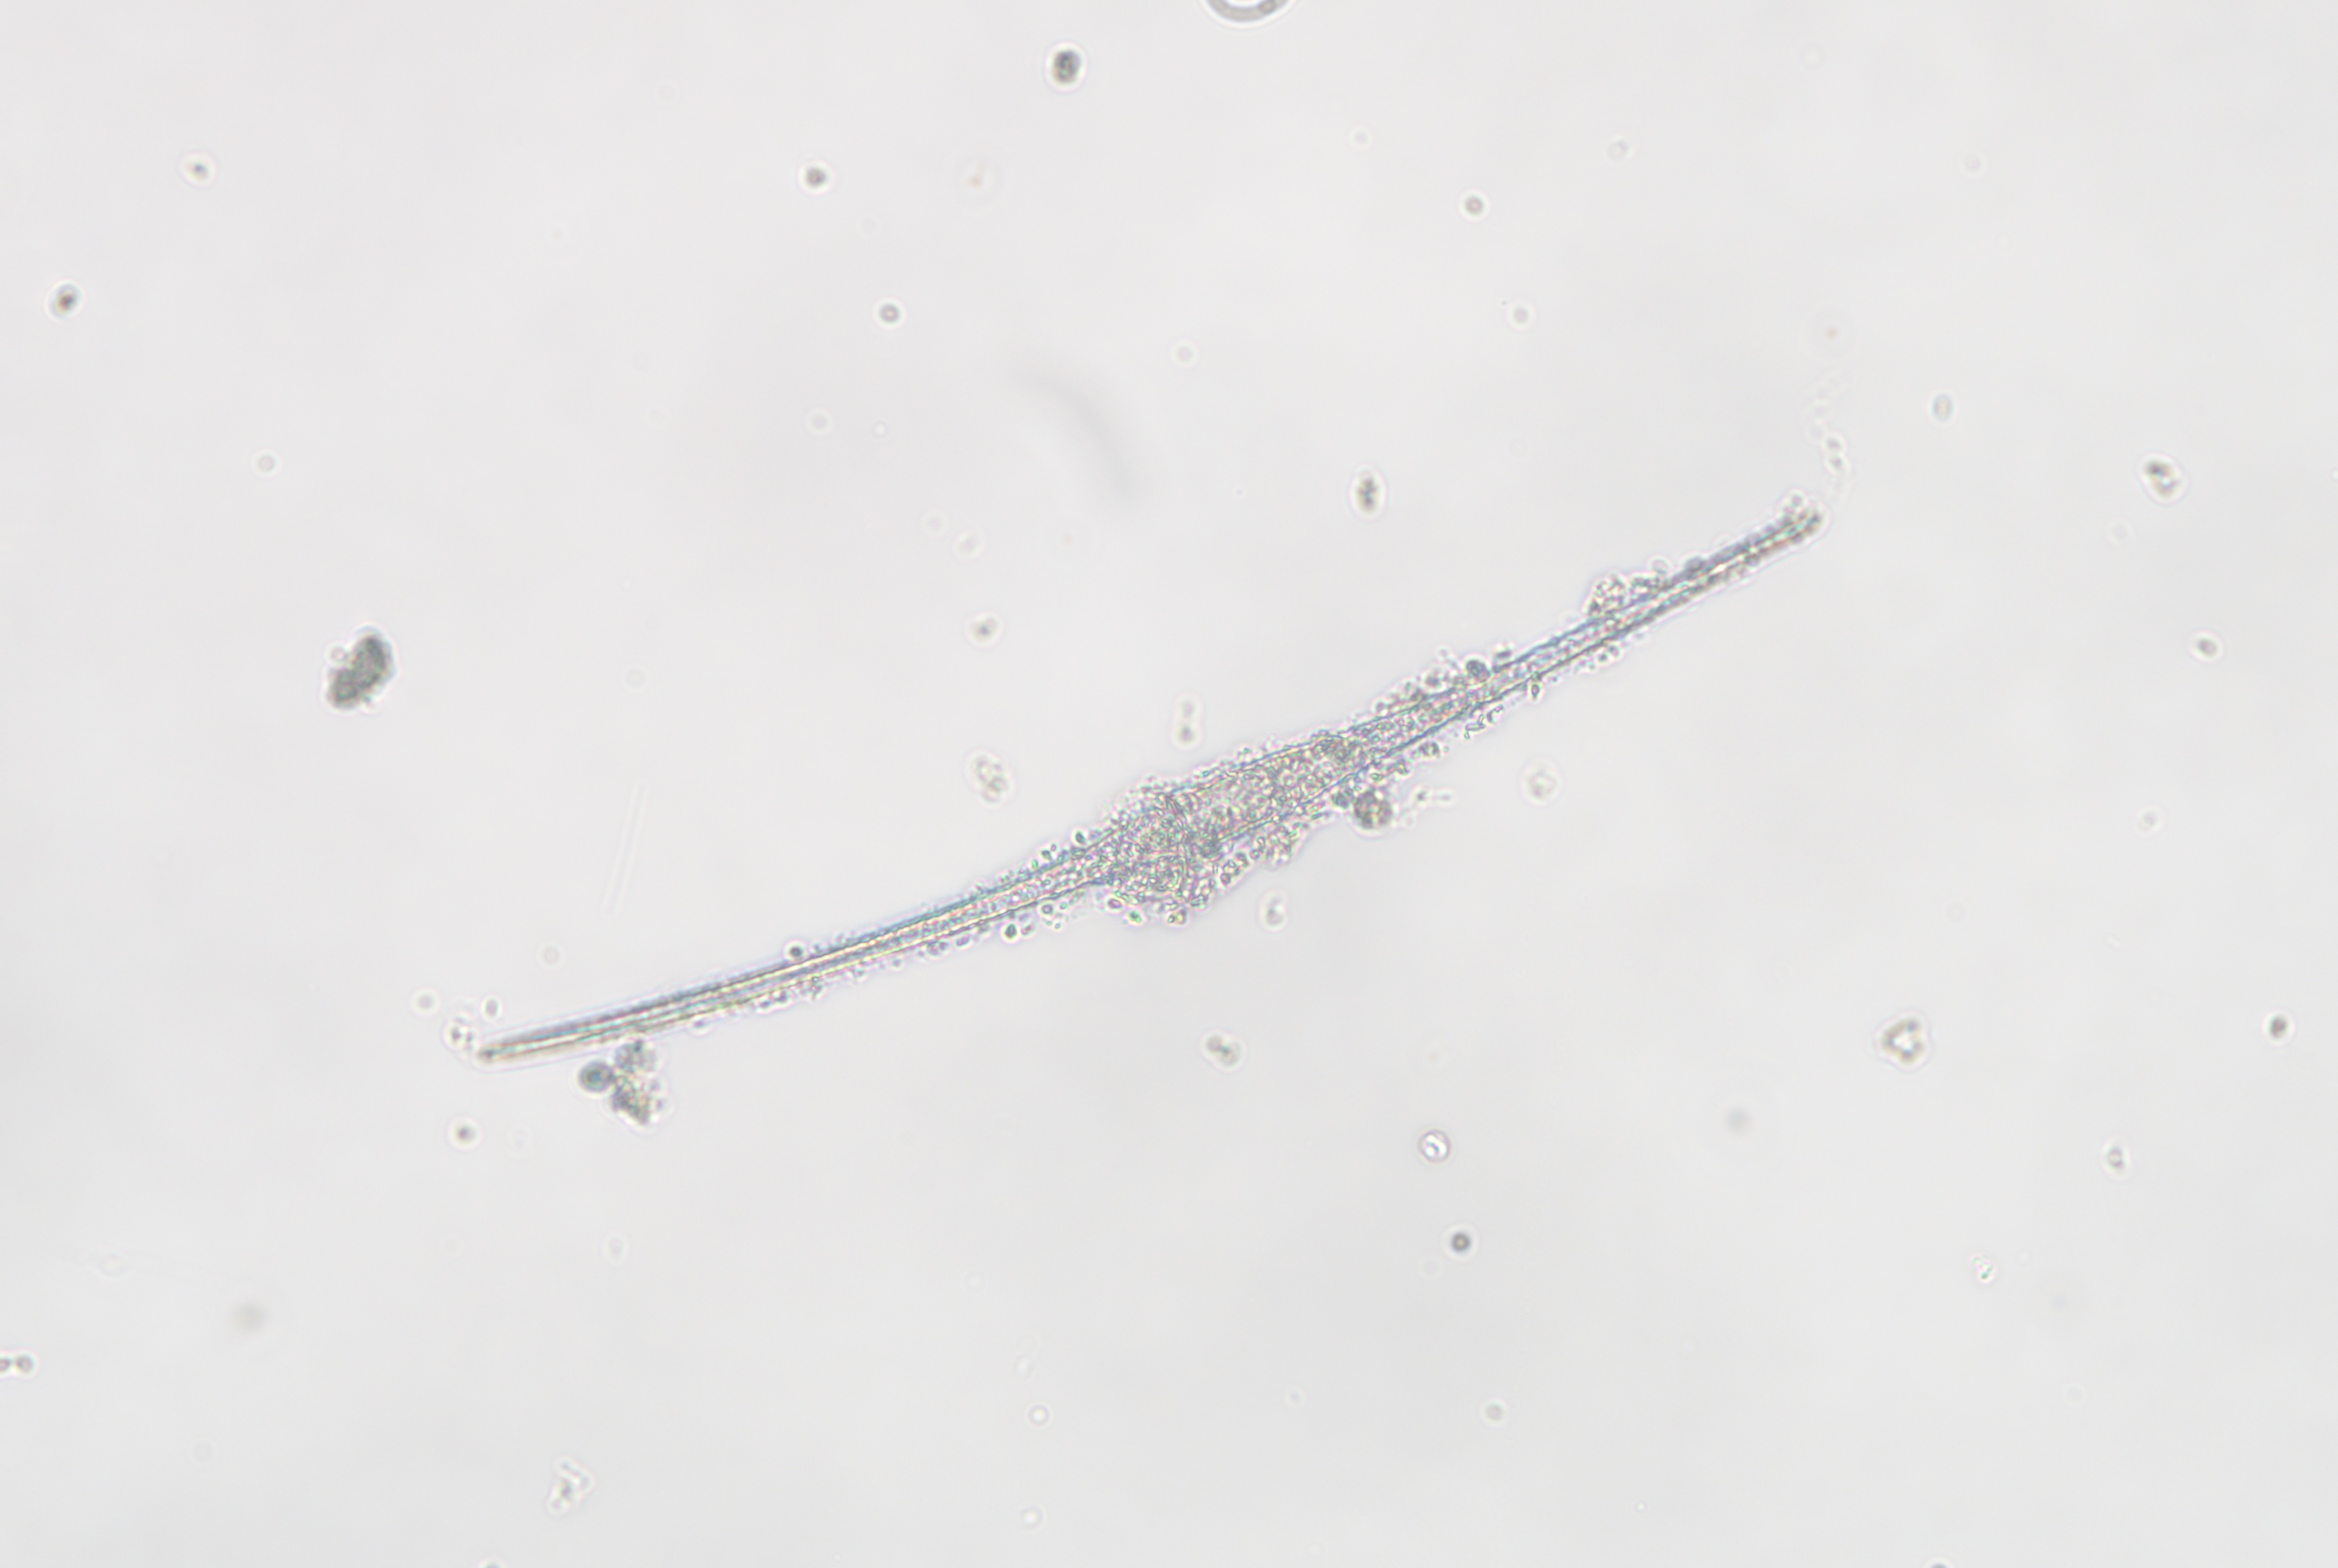ceratium fusus: (488, 500, 1831, 1069)
